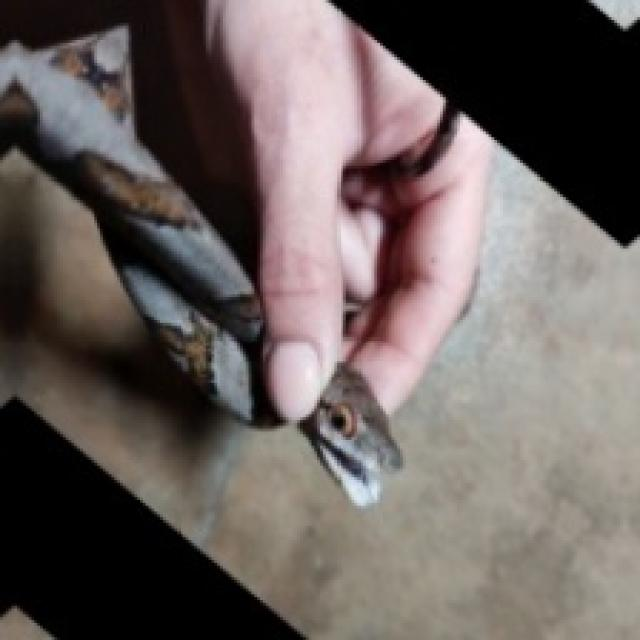dog-toothed cat snake: (0, 46, 283, 426), (300, 363, 400, 506)
